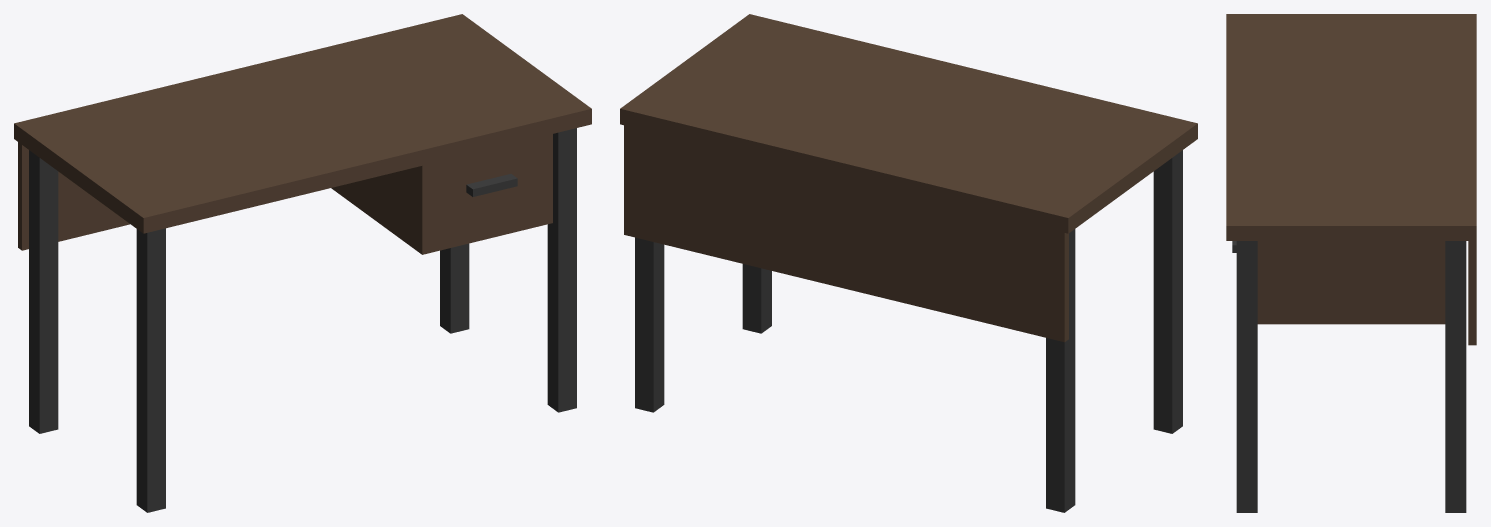
The model's file is desk.glb.
The picture shows the model from 3 angles, left to right: view 1: azimuth 30°, elevation 25°; view 2: azimuth 150°, elevation 25°; view 3: azimuth 270°, elevation 25°; orthographic projection. The views are drawn at different scales.
Bounding box in the file's own units: 1.2 × 0.77 × 0.6.
